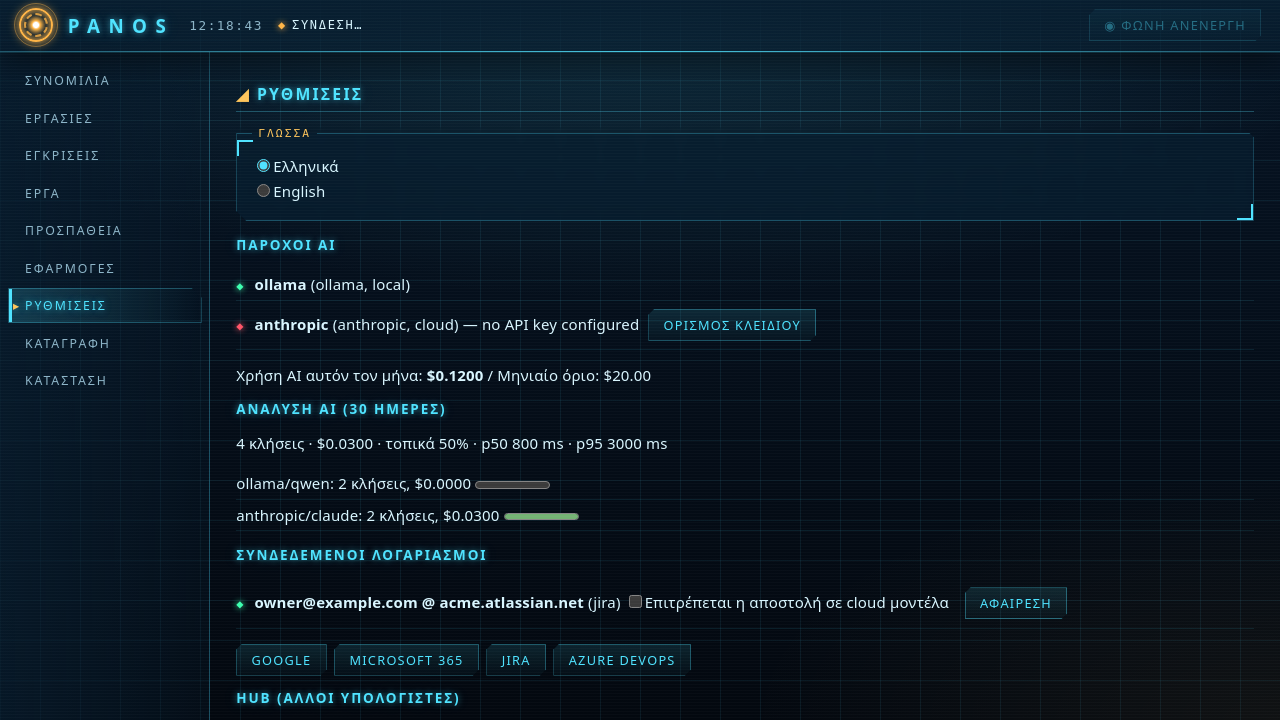
Test: [NFR-ACC-001] i18n and keyboard access › has the same keys in Greek and English and switches language
Expected: the button "Συνομιλία" is shown, [8,63,202,98]
Click the radio button labelled "English" at (264, 190), box [257,184,270,197]
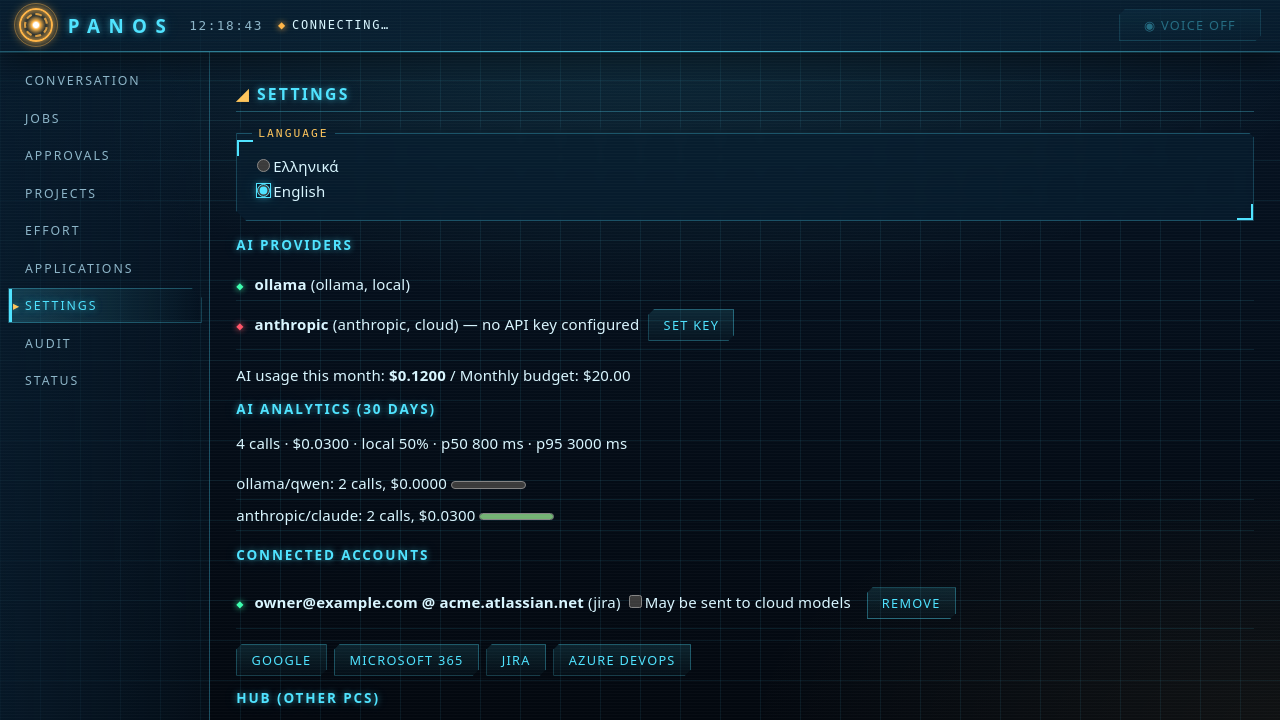
Now the button "Conversation" is shown, box [8,63,202,98]
